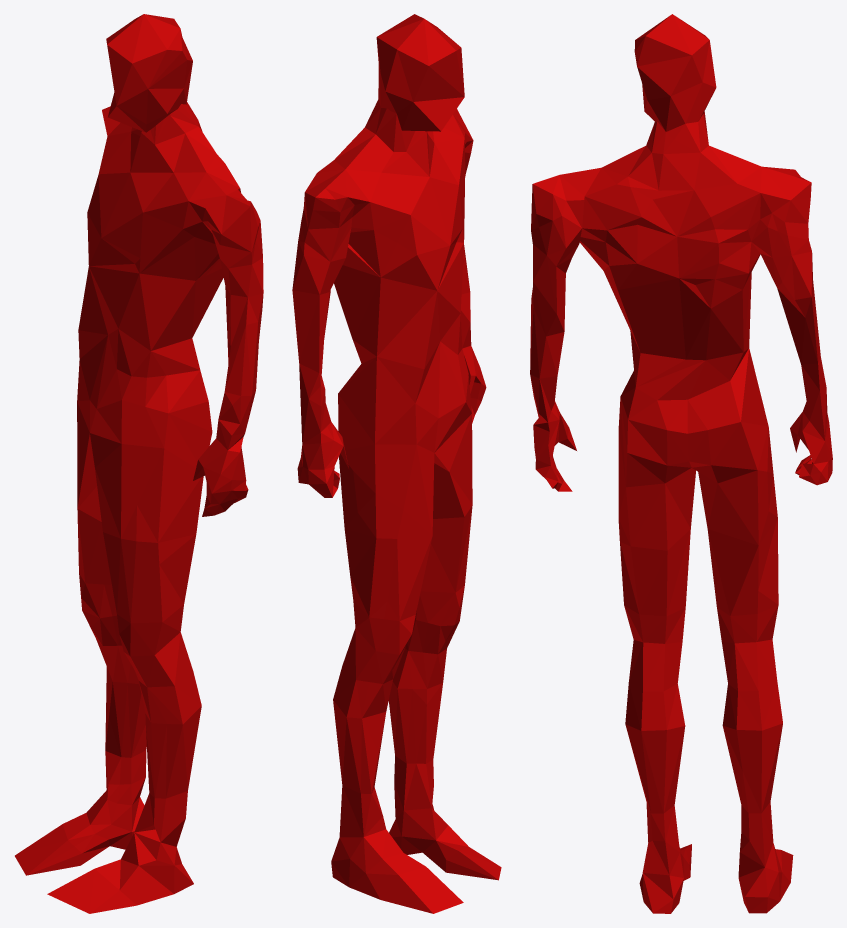
File: superhot.obj
3 renders of one model, left to right at view 1: azimuth 30°, elevation 25°; view 2: azimuth 150°, elevation 25°; view 3: azimuth 270°, elevation 25°, orthographic. The views are drawn at different scales.
Visible parts, largest first — view 1: torso_Superhot_Enemy_Stl.002, left_leg_Superhot_Enemy_Stl.004, right_leg_Superhot_Enemy_Stl.003, left_arm_Superhot_Enemy_Stl.005, head_Superhot_Enemy_Stl.007; view 2: torso_Superhot_Enemy_Stl.002, right_leg_Superhot_Enemy_Stl.003, left_leg_Superhot_Enemy_Stl.004, right_arm_Superhot_Enemy_Stl.006, head_Superhot_Enemy_Stl.007, left_arm_Superhot_Enemy_Stl.005; view 3: torso_Superhot_Enemy_Stl.002, right_leg_Superhot_Enemy_Stl.003, left_leg_Superhot_Enemy_Stl.004, right_arm_Superhot_Enemy_Stl.006, left_arm_Superhot_Enemy_Stl.005, head_Superhot_Enemy_Stl.007.
Part boxes in pixels (box(x1,y1,x2,y2)): torso_Superhot_Enemy_Stl.002: box(77, 102, 240, 467); left_leg_Superhot_Enemy_Stl.004: box(47, 433, 203, 913); right_leg_Superhot_Enemy_Stl.003: box(15, 402, 146, 875); left_arm_Superhot_Enemy_Stl.005: box(193, 189, 263, 516); head_Superhot_Enemy_Stl.007: box(106, 14, 192, 132); torso_Superhot_Enemy_Stl.002: box(317, 99, 471, 452); right_leg_Superhot_Enemy_Stl.003: box(331, 444, 463, 913); left_leg_Superhot_Enemy_Stl.004: box(388, 414, 501, 880); right_arm_Superhot_Enemy_Stl.006: box(292, 169, 369, 497); head_Superhot_Enemy_Stl.007: box(376, 14, 464, 131); left_arm_Superhot_Enemy_Stl.005: box(453, 109, 486, 423); torso_Superhot_Enemy_Stl.002: box(560, 111, 768, 487); right_leg_Superhot_Enemy_Stl.003: box(698, 427, 793, 913); left_leg_Superhot_Enemy_Stl.004: box(618, 428, 695, 913); right_arm_Superhot_Enemy_Stl.006: box(751, 166, 832, 485); left_arm_Superhot_Enemy_Stl.005: box(530, 175, 584, 491); head_Superhot_Enemy_Stl.007: box(634, 14, 716, 131).
Bounding box in the file's own units: 1.79 × 9.04 × 2.82.
